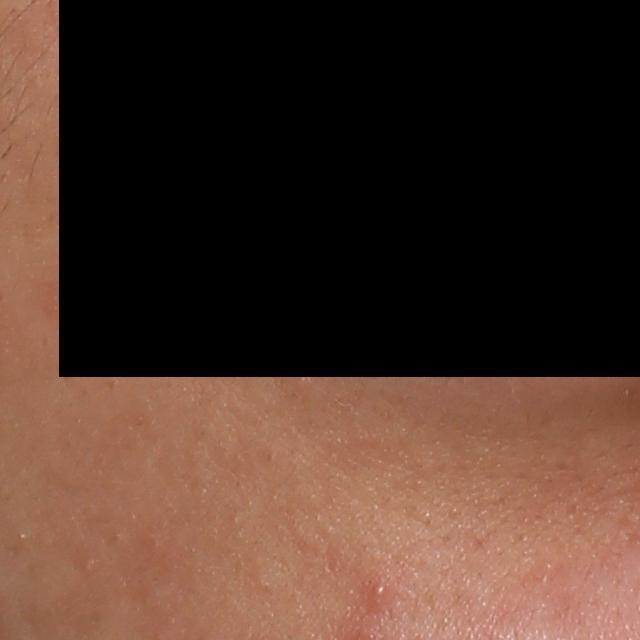papule: (365, 576, 395, 610)
